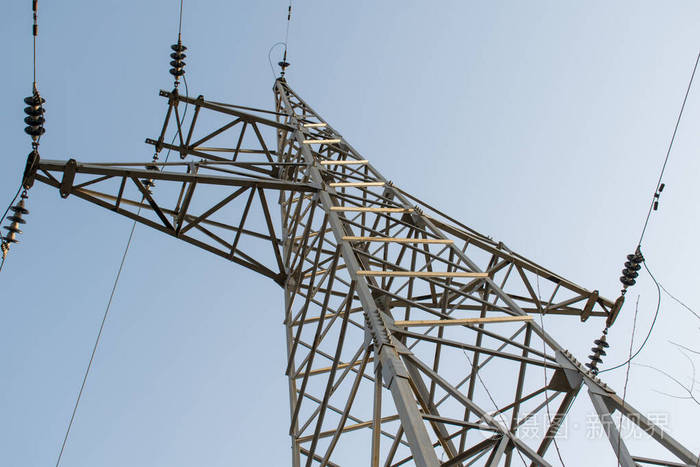insulator: (3, 204, 32, 247), (22, 96, 46, 137), (619, 254, 644, 287), (167, 43, 192, 75), (587, 340, 611, 372)
